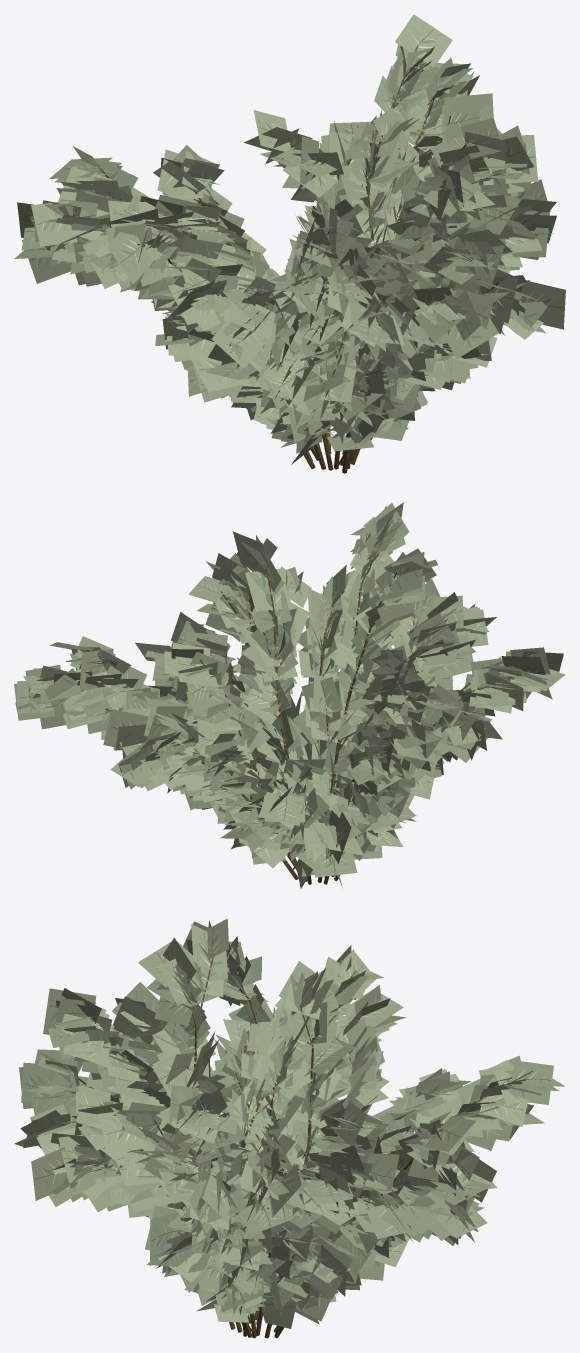
File: willow_shrub_v02_LOD1.glb
The picture shows the model from 3 angles, top to bottom: view 1: azimuth 30°, elevation 25°; view 2: azimuth 150°, elevation 25°; view 3: azimuth 270°, elevation 25°; orthographic projection. The views are drawn at different scales.
Parts seen in each view (by area): view 1: willow_shrub_v02_LOD1; view 2: willow_shrub_v02_LOD1; view 3: willow_shrub_v02_LOD1.
Part boxes in pixels (bbox=[...]): willow_shrub_v02_LOD1: bbox=[14, 14, 565, 473]; willow_shrub_v02_LOD1: bbox=[14, 502, 565, 888]; willow_shrub_v02_LOD1: bbox=[14, 918, 565, 1338].
Size of the model in its own units: 5.9 by 4.2 by 5.71.
Materials: 2 (2 with a texture image).
